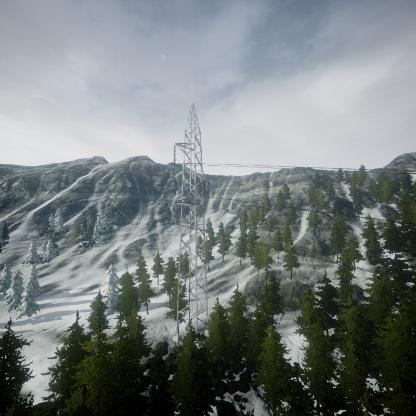tower: (169, 102, 218, 346)
